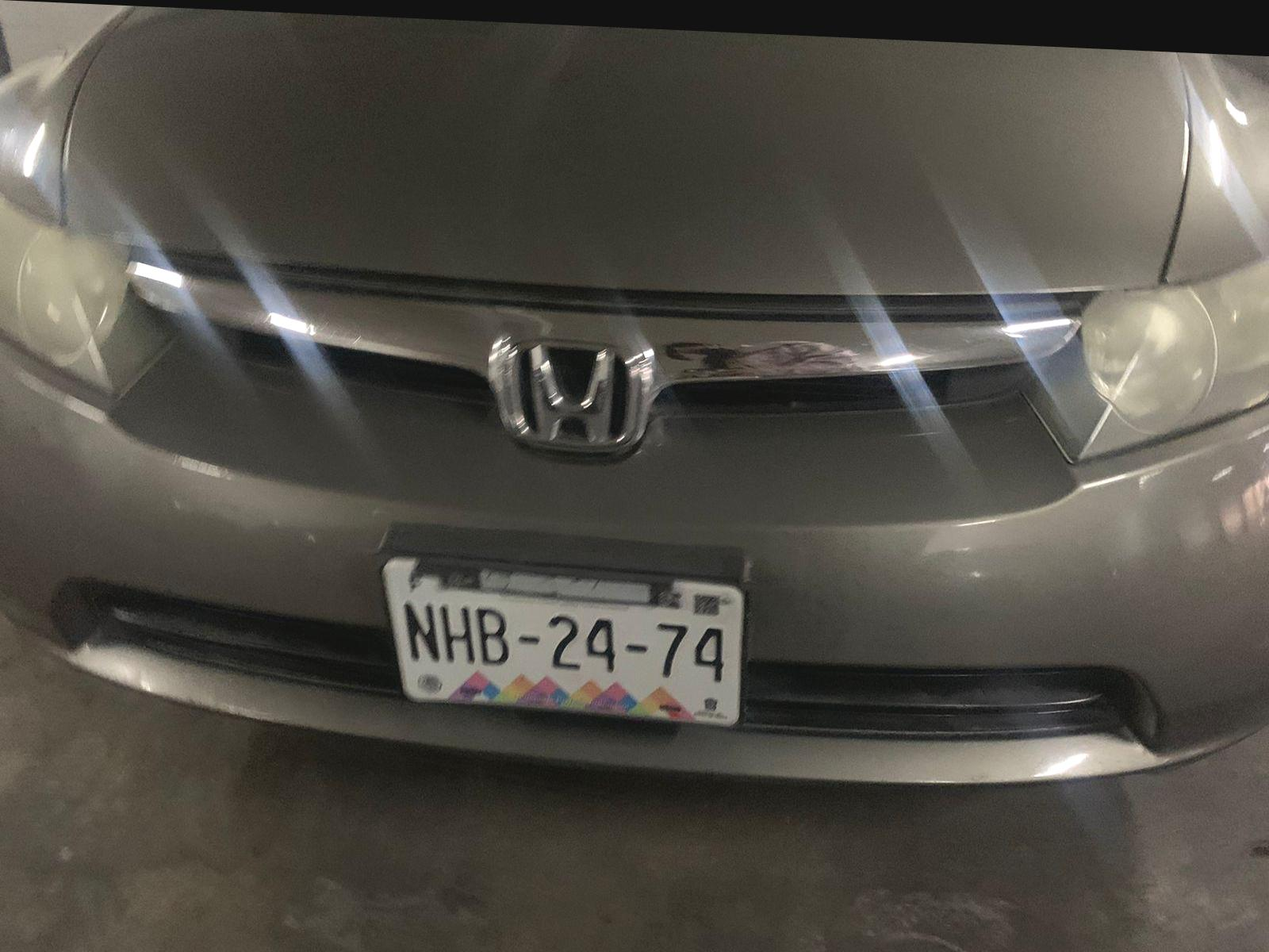License_Plate: (351, 537, 764, 746)
